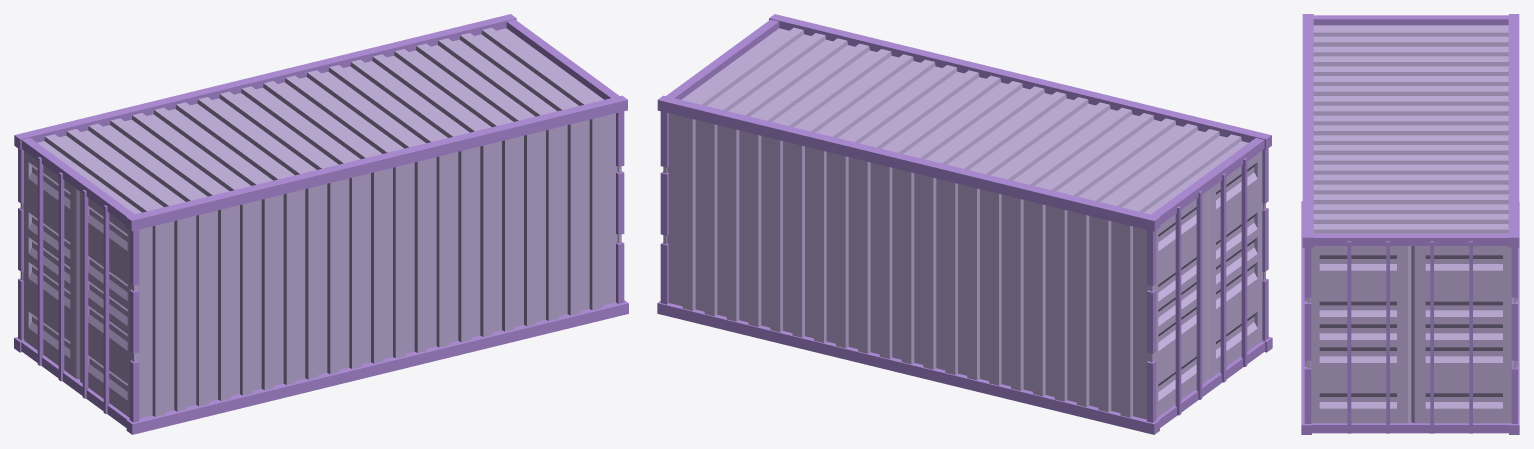
File: container.fbx
The picture shows the model from 3 angles, left to right: view 1: azimuth 30°, elevation 25°; view 2: azimuth 150°, elevation 25°; view 3: azimuth 270°, elevation 25°; orthographic projection. The views are drawn at different scales.
Parts seen in each view (by area): view 1: Conainer; view 2: Conainer; view 3: Conainer.
Part boxes in pixels (left/top/right/bottom): Conainer: left=14, top=14, right=628, bottom=434; Conainer: left=657, top=14, right=1272, bottom=434; Conainer: left=1301, top=14, right=1519, bottom=434.
Bounding box in the file's own units: 1208 × 495 × 497.
